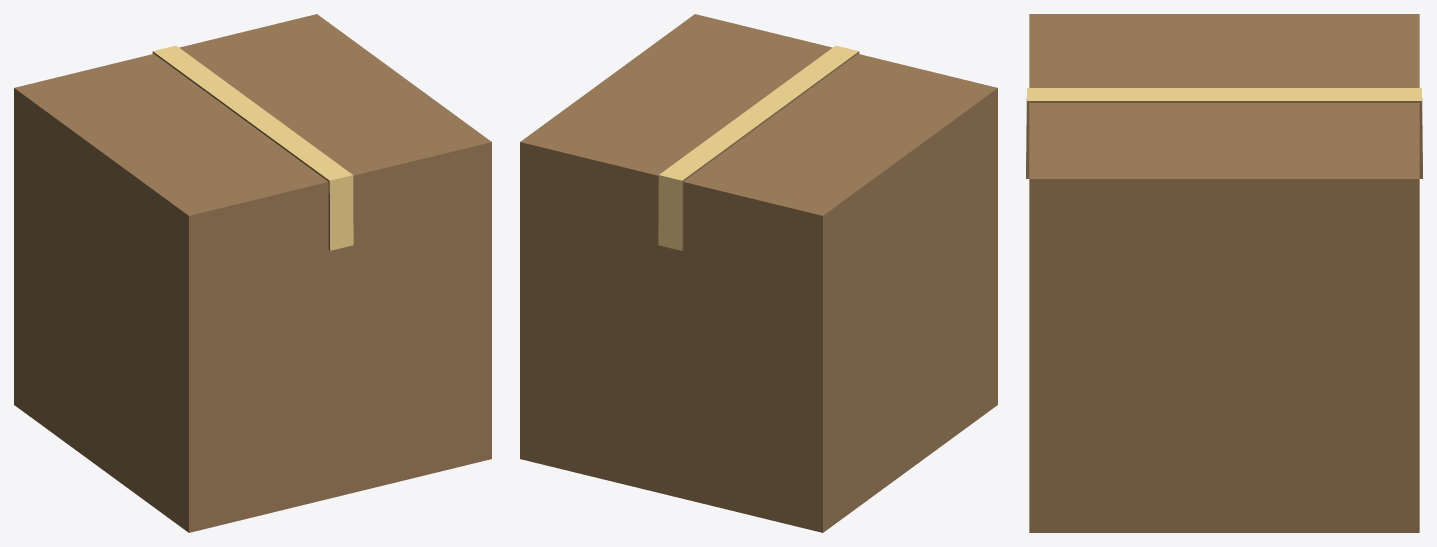
3 views of the same model, side by side, from view 1: azimuth 30°, elevation 25°; view 2: azimuth 150°, elevation 25°; view 3: azimuth 270°, elevation 25° (orthographic). The views are drawn at different scales.
Visible parts, largest first — view 1: Box; view 2: Box; view 3: Box.
Boxes of the visible parts, left/top/right/bottom form: Box: left=14, top=14, right=491, bottom=532; Box: left=520, top=14, right=997, bottom=532; Box: left=1026, top=14, right=1422, bottom=532.
Bounding box in the file's own units: 200 × 201 × 203.
